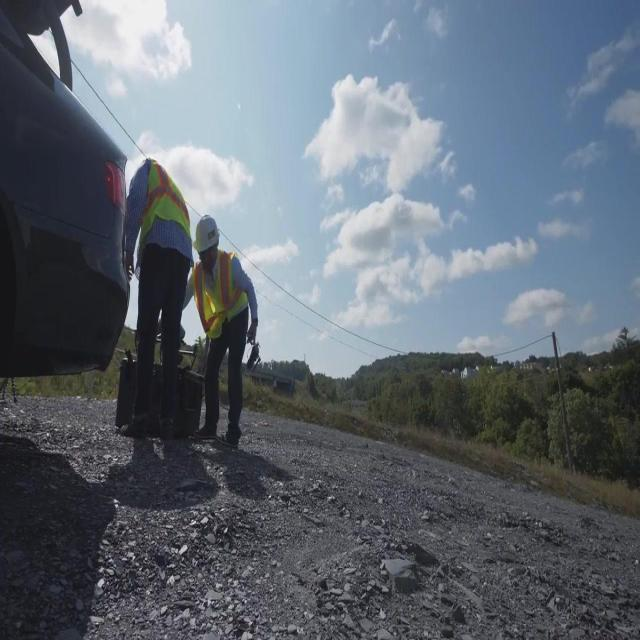Vest: (135, 156, 191, 262), (192, 248, 249, 344)
